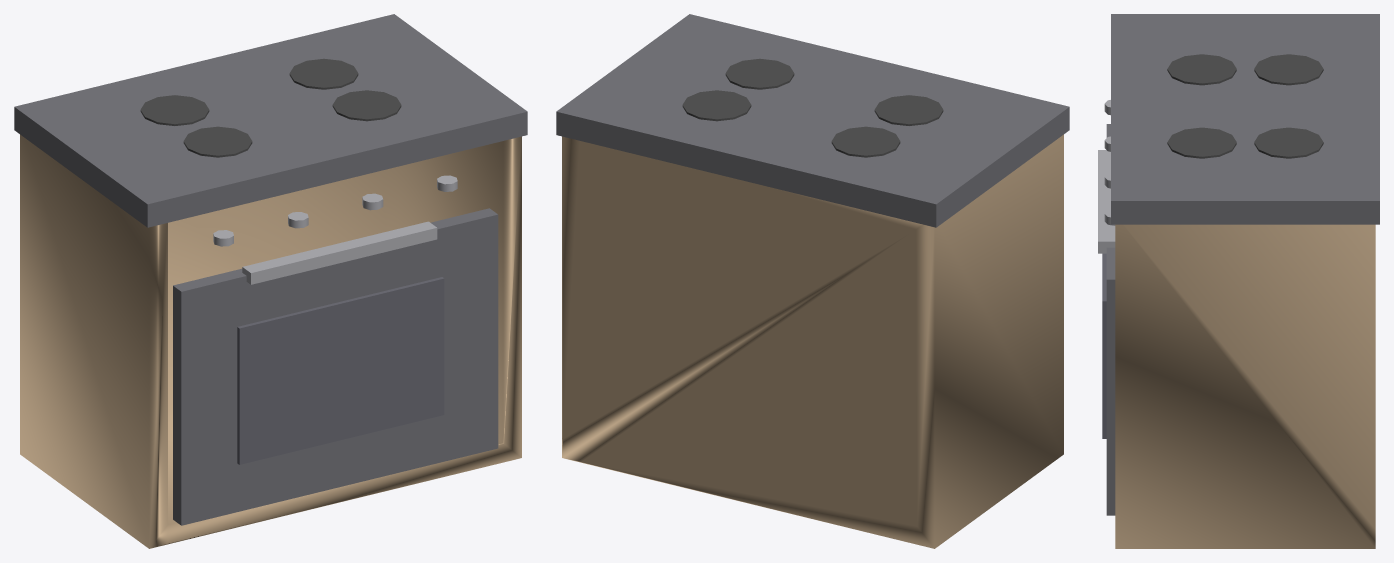
File: kitchen_stove_unit.glb
The picture shows the model from 3 angles, left to right: view 1: azimuth 30°, elevation 25°; view 2: azimuth 150°, elevation 25°; view 3: azimuth 270°, elevation 25°; orthographic projection.
Visible parts, largest first — view 1: merged_cabinet_wood, stove_top, oven_door, oven_window, oven_handle, burner_bl, burner_fr, burner_br, burner_fl; view 2: merged_cabinet_wood, stove_top, burner_fl, burner_fr, burner_br, burner_bl; view 3: merged_cabinet_wood, stove_top, oven_door, burner_fl, burner_bl, burner_fr, burner_br, oven_handle, oven_window.
Boxes of the visible parts, x1,y1,x2,y2 form: merged_cabinet_wood: [20, 134, 521, 548]; stove_top: [14, 14, 527, 227]; oven_door: [173, 208, 498, 525]; oven_window: [237, 277, 444, 464]; oven_handle: [242, 221, 437, 284]; burner_bl: [183, 126, 252, 157]; burner_fr: [289, 58, 358, 89]; burner_br: [332, 90, 401, 121]; burner_fl: [140, 95, 209, 125]; merged_cabinet_wood: [562, 134, 1063, 548]; stove_top: [556, 14, 1069, 227]; burner_fl: [831, 126, 900, 157]; burner_fr: [682, 90, 751, 121]; burner_br: [725, 58, 794, 89]; burner_bl: [874, 95, 943, 125]; merged_cabinet_wood: [1115, 224, 1375, 548]; stove_top: [1111, 14, 1379, 224]; oven_door: [1106, 124, 1115, 515]; burner_fl: [1254, 54, 1323, 85]; burner_bl: [1167, 54, 1236, 85]; burner_fr: [1254, 127, 1323, 158]; burner_br: [1167, 127, 1236, 158]; oven_handle: [1098, 150, 1115, 253]; oven_window: [1102, 253, 1106, 438].
Size of the model in its own units: 1.02 by 0.895 by 0.65.
